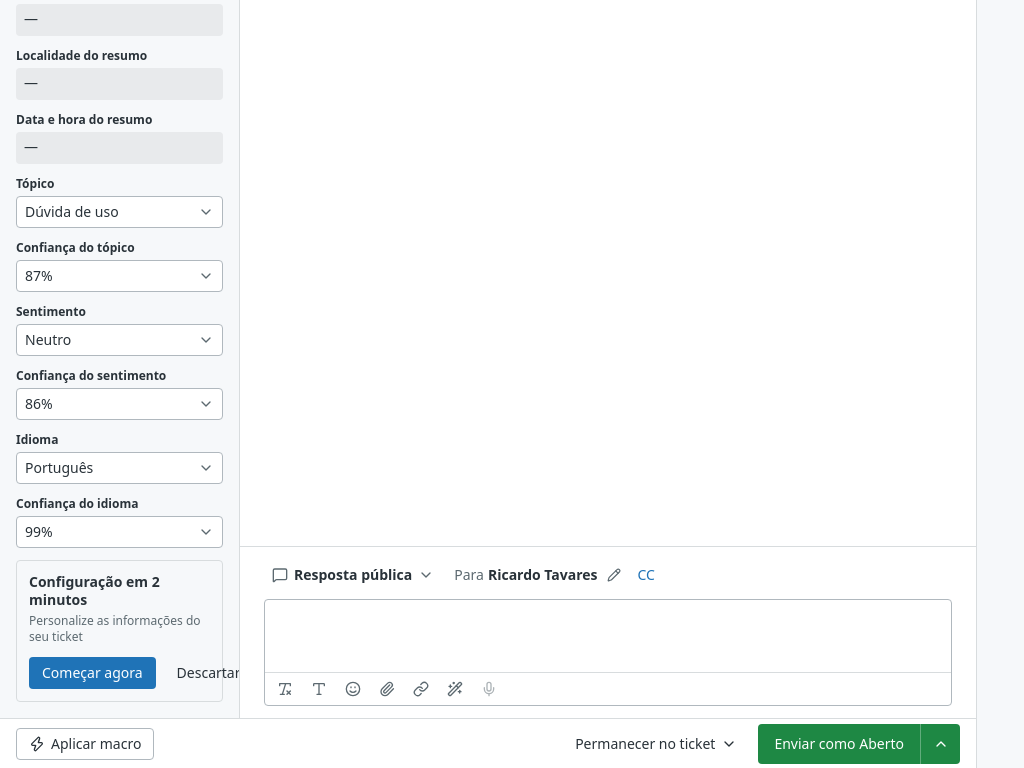
Test: BottomBar: macros › aplicar macro muda status, botão e texto sem enviar
(page scrolled)
Check: the button "Enviar como Aberto" is shown, box [758,724,920,764]
Click the button "Aplicar macro". click: (85, 744)
box: [16,728,154,760]
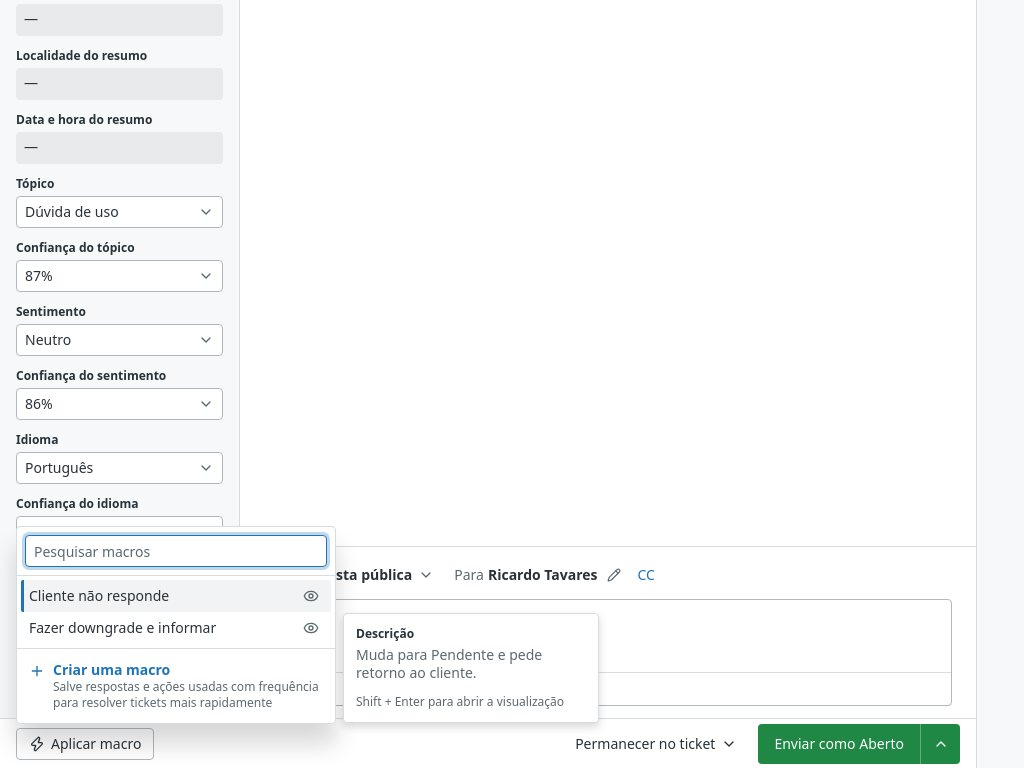
Check: the text "Criar uma macro" is shown, box [53,660,170,679]
Click the option "Cliente não responde". click: (99, 596)
box: [21,580,331,612]
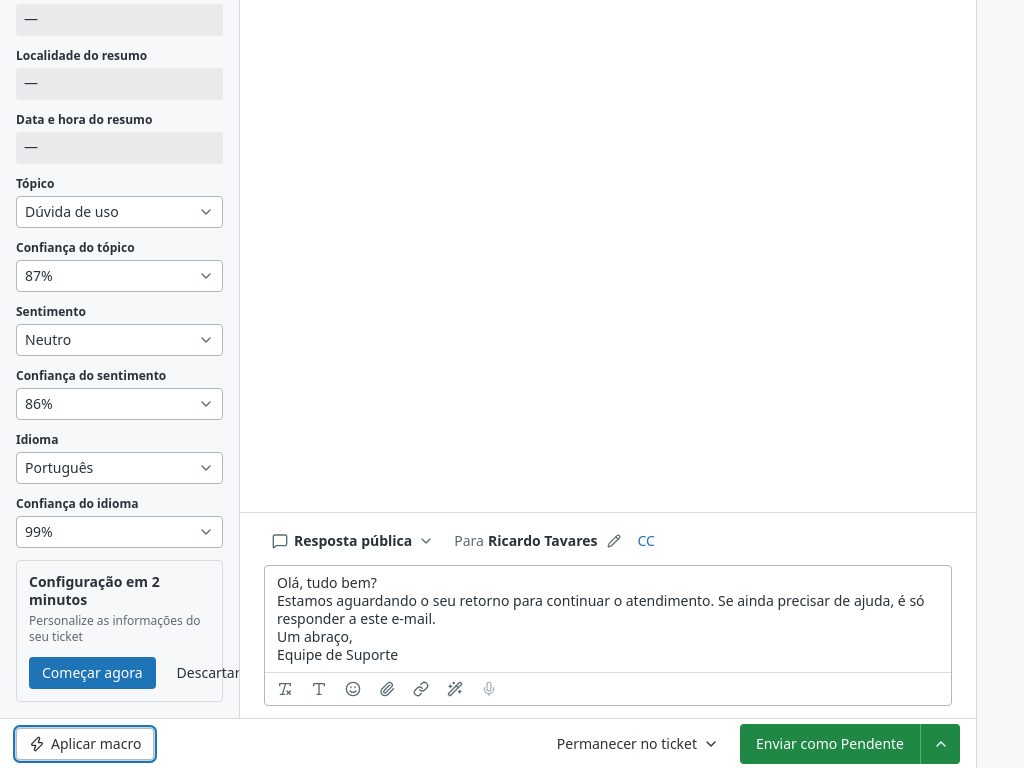
Check: the button "Enviar como Pendente" is shown, box [740,724,920,764]
